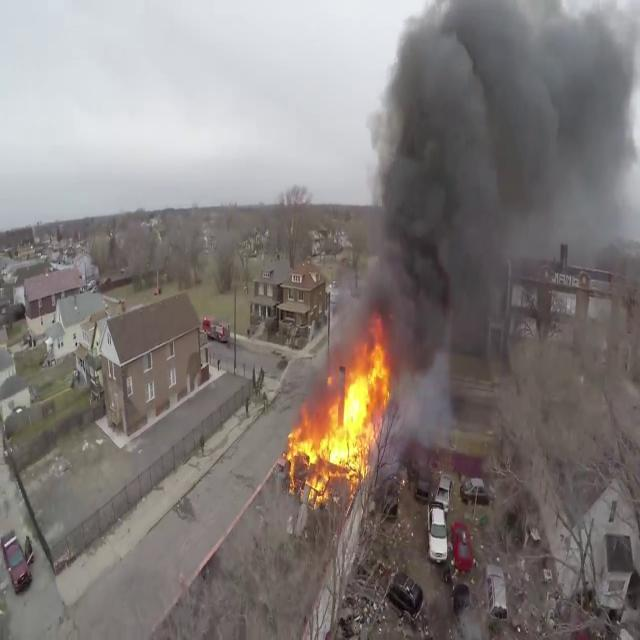Fire: (282, 334, 394, 496)
Smoke: (341, 0, 640, 400)
